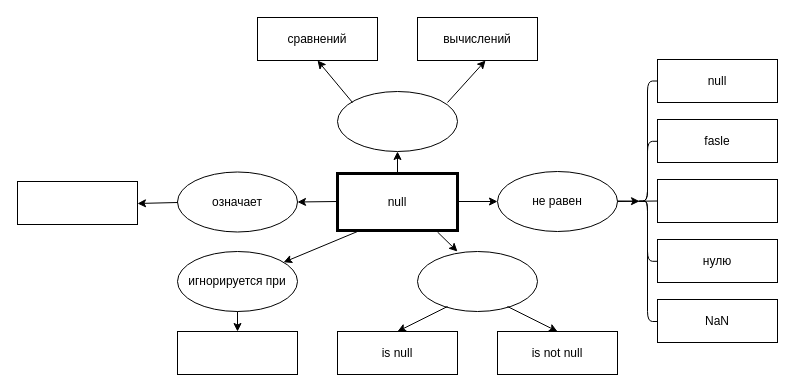
This 795x392 diagram has some shape labels left out. The centre of each missing label's shape, as x and y in pixels:
"Неизвестно", "Я не знаю": the point at 77,202
агрегации: the point at 237,352
воспроизводится в результате: the point at 397,121
проверяется при помощи: the point at 477,281
пустой строке: the point at 717,200
